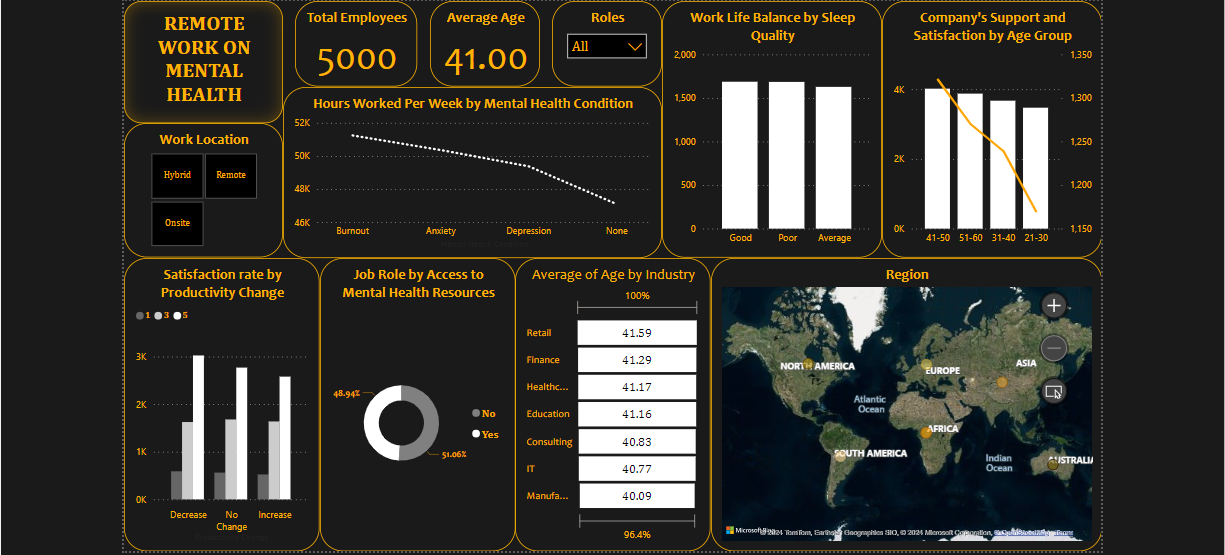

What the dashboard file says about the page in this screenshot:
{"tool":"powerbi","page":{"name":"Page 1","canvas":[1280,720],"ordinal":0},"visuals":[{"type":"card","title":"Total Employees","fields":{"Values":["Count(Impact_of_Remote_Work_on_Mental.Employee ID)"]},"box":[224,0,160,112],"z":0},{"type":"lineClusteredColumnComboChart","title":" Company''s Support and Satisfaction by Age Group","fields":{"Y":["Sum(Impact_of_Remote_Work_on_Mental.Company Support)"],"Category":["Impact_of_Remote_Work_on_Mental.Age Group"],"Y2":["CountNonNull(Impact_of_Remote_Work_on_Mental.Satisfaction)"]},"box":[992,0,288,336],"z":1000},{"type":"donutChart","title":"Job Role by Access to Mental Health Resources","fields":{"Category":["Impact_of_Remote_Work_on_Mental.Access to Mental Health Resources"],"Y":["CountNonNull(Impact_of_Remote_Work_on_Mental.Job Role)"]},"box":[256,336,256,384],"z":2000},{"type":"funnel","fields":{"Category":["Impact_of_Remote_Work_on_Mental.Industry"],"Y":["Avg(Impact_of_Remote_Work_on_Mental.Age)"]},"box":[512,336,256,384],"z":3000},{"type":"lineClusteredColumnComboChart","title":"Hours Worked Per Week by Mental Health Condition","fields":{"Category":["Impact_of_Remote_Work_on_Mental.Mental Health Condition"],"Y2":["Sum(Impact_of_Remote_Work_on_Mental.Hours Worked Per Week)"]},"box":[208,112,496,224],"z":4000},{"type":"clusteredColumnChart","title":"Satisfaction rate by Productivity Change","fields":{"Category":["Impact_of_Remote_Work_on_Mental.Productivity Change"],"Y":["Sum(Impact_of_Remote_Work_on_Mental.Satisfaction rate)"],"Series":["Impact_of_Remote_Work_on_Mental.Satisfaction rate"]},"box":[0,336,256,384],"z":5000},{"type":"clusteredColumnChart","title":"Work Life Balance by Sleep Quality","fields":{"Y":["CountNonNull(Impact_of_Remote_Work_on_Mental.Work Life Balance)"],"Category":["Impact_of_Remote_Work_on_Mental.Sleep Quality"]},"box":[704,0,288,336],"z":6000},{"type":"slicer","title":"Roles","fields":{"Values":["Impact_of_Remote_Work_on_Mental.Job Role"]},"box":[560,0,144,112],"z":7000},{"type":"slicer","title":"Work Location","fields":{"Values":["Impact_of_Remote_Work_on_Mental.Work Location"]},"box":[0,160,208,176],"z":8000},{"type":"card","title":"Average Age","fields":{"Values":["Avg(Impact_of_Remote_Work_on_Mental.Age)"]},"box":[400,0,144,112],"z":9000},{"type":"map","title":"Region","fields":{"Series":["Impact_of_Remote_Work_on_Mental.Region"],"Category":["Impact_of_Remote_Work_on_Mental.Region"]},"box":[768,336,512,384],"z":10000},{"type":"textbox","box":[0,0,208,160],"z":11000}]}

Visuals, with their boxes on the page's 1280x720 design canvas (x1, y1, x2, y2). These are canvas units, not pixel positions in the 1225x555 screenshot, which may show the page scaled, cropped or inside an application window:
"Total Employees" card: BBox(224, 0, 384, 112)
" Company''s Support and Satisfaction by Age Group" lineClusteredColumnComboChart: BBox(992, 0, 1280, 336)
"Job Role by Access to Mental Health Resources" donutChart: BBox(256, 336, 512, 720)
funnel - Impact_of_Remote_Work_on_Mental.Industry x Avg(Impact_of_Remote_Work_on_Mental.Age): BBox(512, 336, 768, 720)
"Hours Worked Per Week by Mental Health Condition" lineClusteredColumnComboChart: BBox(208, 112, 704, 336)
"Satisfaction rate by Productivity Change" clusteredColumnChart: BBox(0, 336, 256, 720)
"Work Life Balance by Sleep Quality" clusteredColumnChart: BBox(704, 0, 992, 336)
"Roles" slicer: BBox(560, 0, 704, 112)
"Work Location" slicer: BBox(0, 160, 208, 336)
"Average Age" card: BBox(400, 0, 544, 112)
"Region" map: BBox(768, 336, 1280, 720)
textbox: BBox(0, 0, 208, 160)
